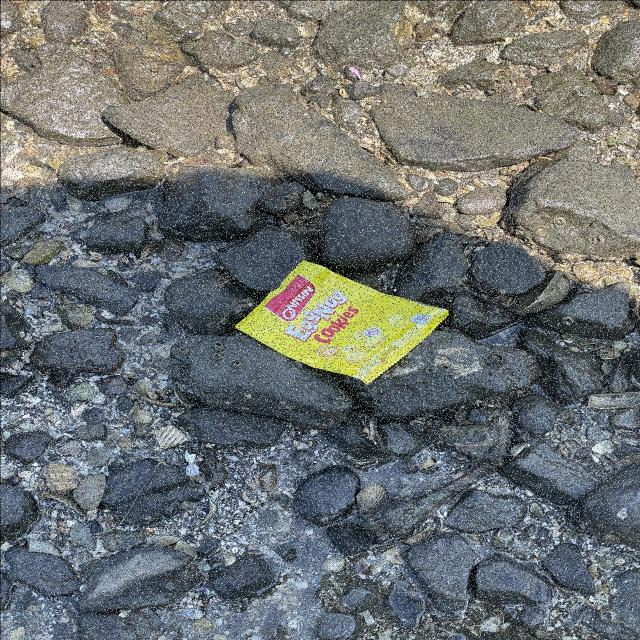plastic_waste: (234, 259, 451, 386)
